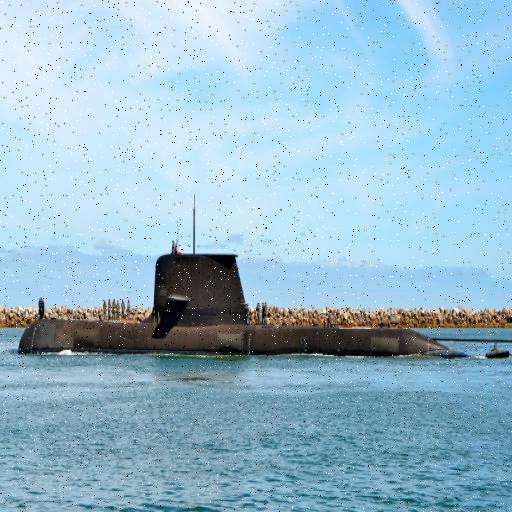submarine: (18, 200, 464, 360)
